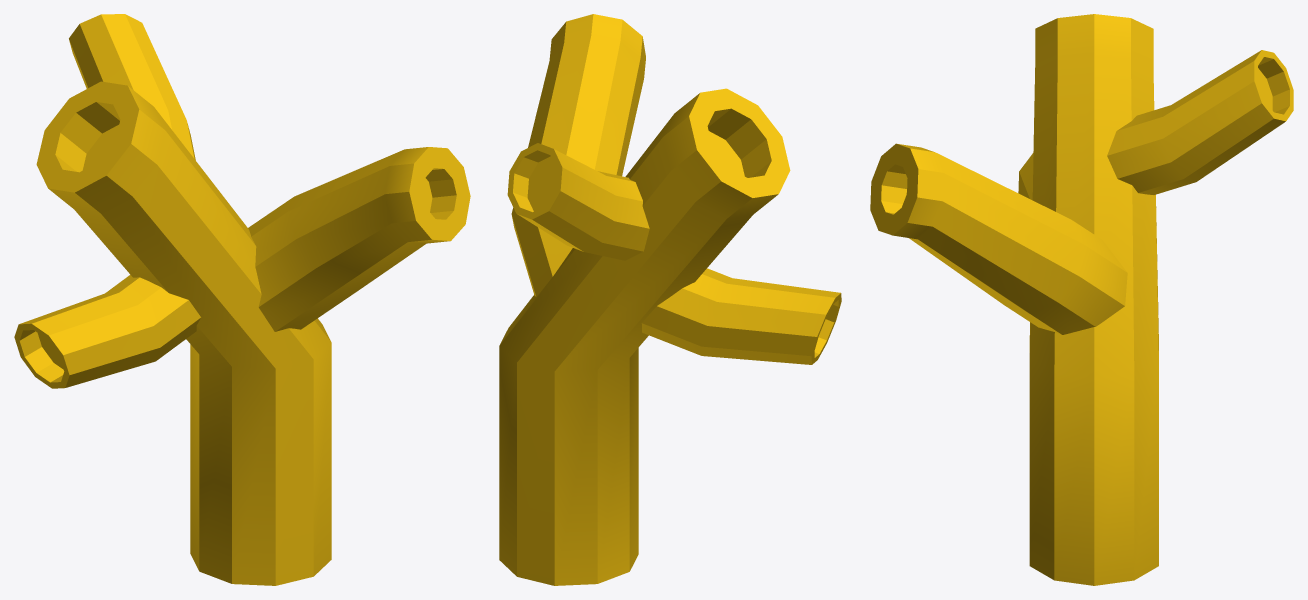
File: Coral yellow.fbx
3 renders of one model, left to right at view 1: azimuth 30°, elevation 25°; view 2: azimuth 150°, elevation 25°; view 3: azimuth 270°, elevation 25°, orthographic. The views are drawn at different scales.
Visible parts, largest first — view 1: Coral_yellow; view 2: Coral_yellow; view 3: Coral_yellow.
Boxes of the visible parts, x1=… form: Coral_yellow: x1=14, y1=14, x2=470, y2=585; Coral_yellow: x1=499, y1=14, x2=841, y2=585; Coral_yellow: x1=870, y1=14, x2=1293, y2=585.
Size of the model in its own units: 33.86 by 44.8 by 35.72.
